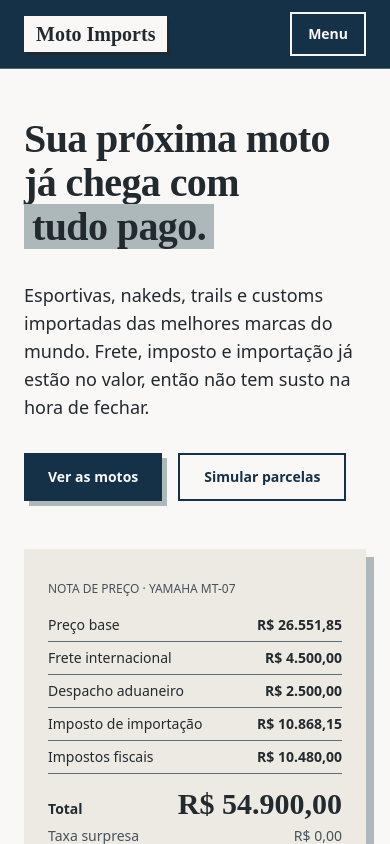
Test: Navbar (menu no celular) › abre e fecha o menu, informando o estado para leitores de tela
The image size is (390, 844).
Step 1. Click the button "Menu" → click(328, 34), box [290,12,366,56]
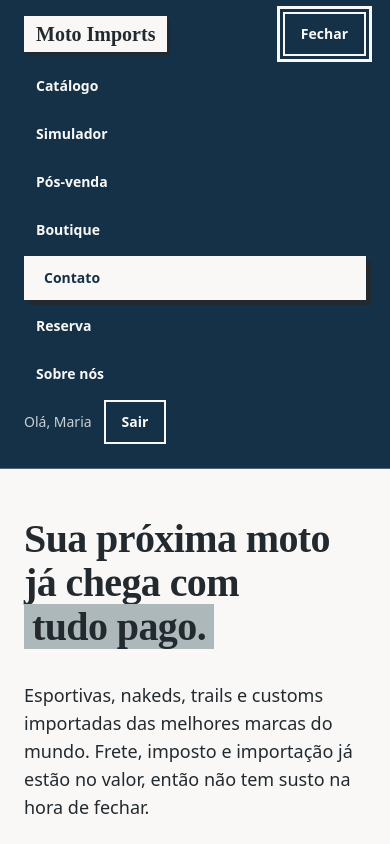
Result: the button "Fechar" is expanded
Step 2. Click the button "Fechar" → click(324, 34), box [283,12,366,56]
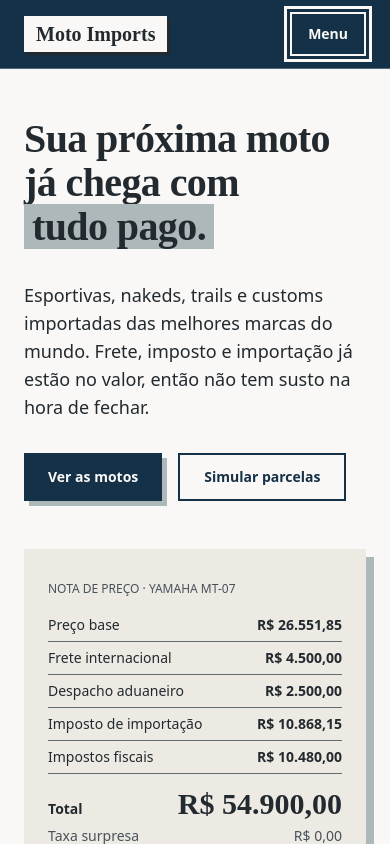
Result: the button "Menu" is collapsed at [290,12,366,56]
